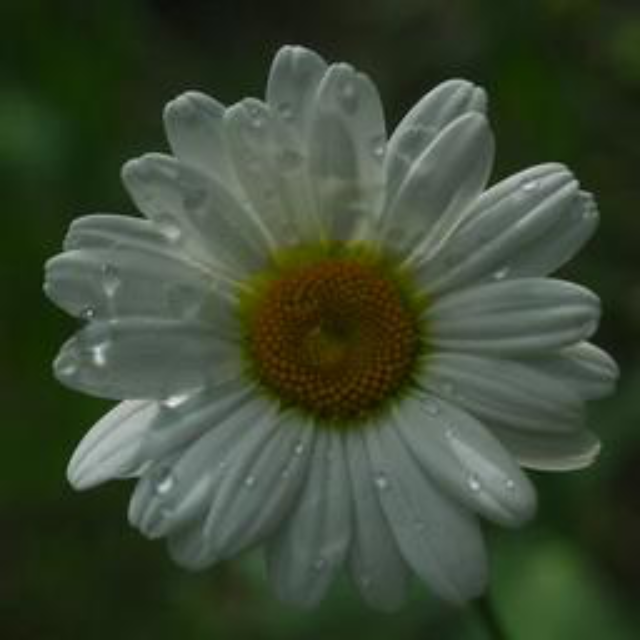daisy: (40, 42, 622, 603)
